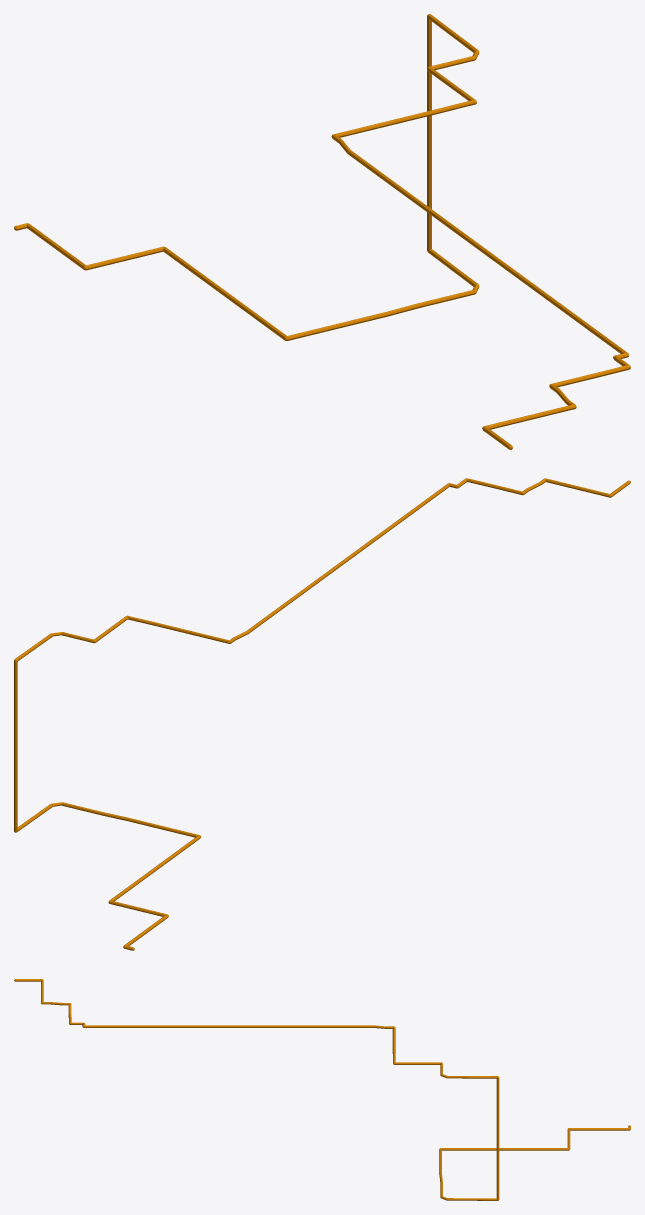
3 renders of one model, top to bottom at view 1: azimuth 30°, elevation 25°; view 2: azimuth 150°, elevation 25°; view 3: azimuth 270°, elevation 25°, orthographic. The views are drawn at different scales.
Size of the model in its own units: 1723 by 1020 by 4574.
